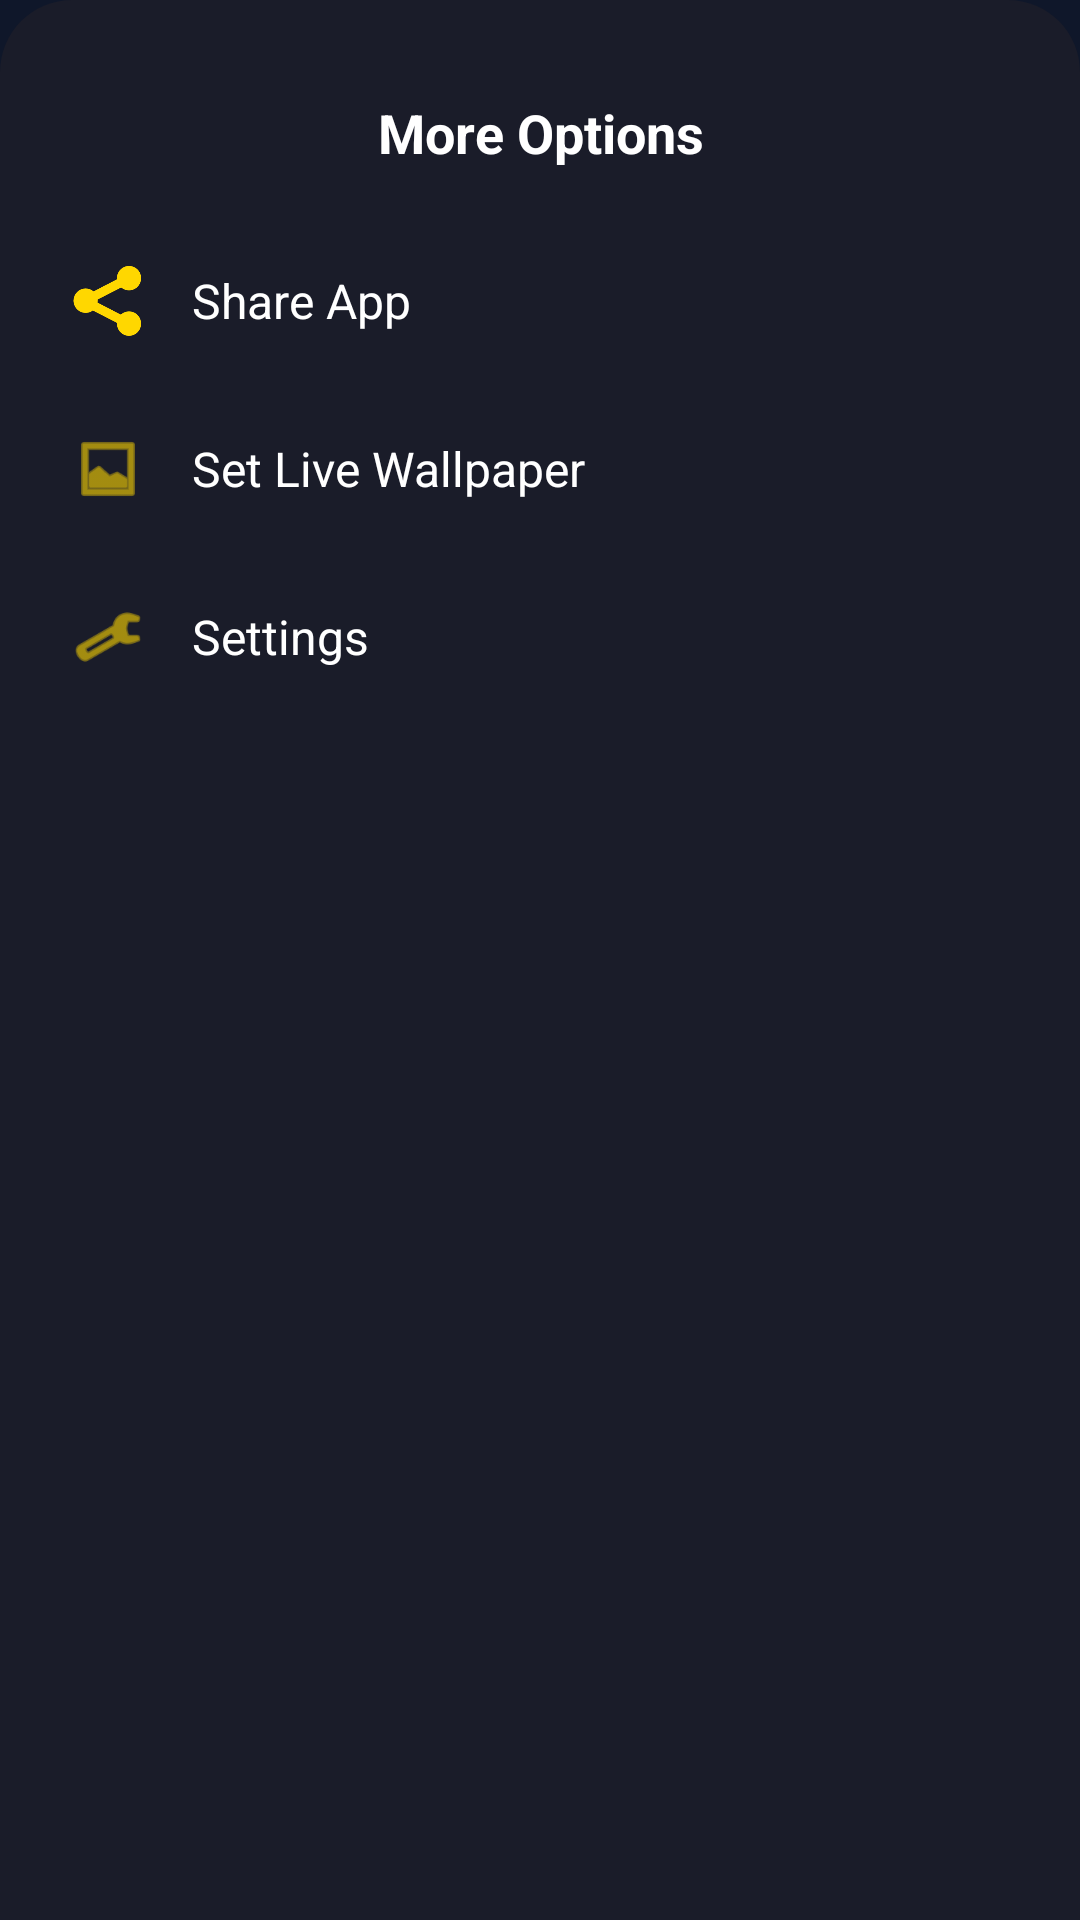

Where to tap for icons on this 1080w x 1920h app screen, as [x,y]:
gallery: [108,469]
preferences: [107,637]
